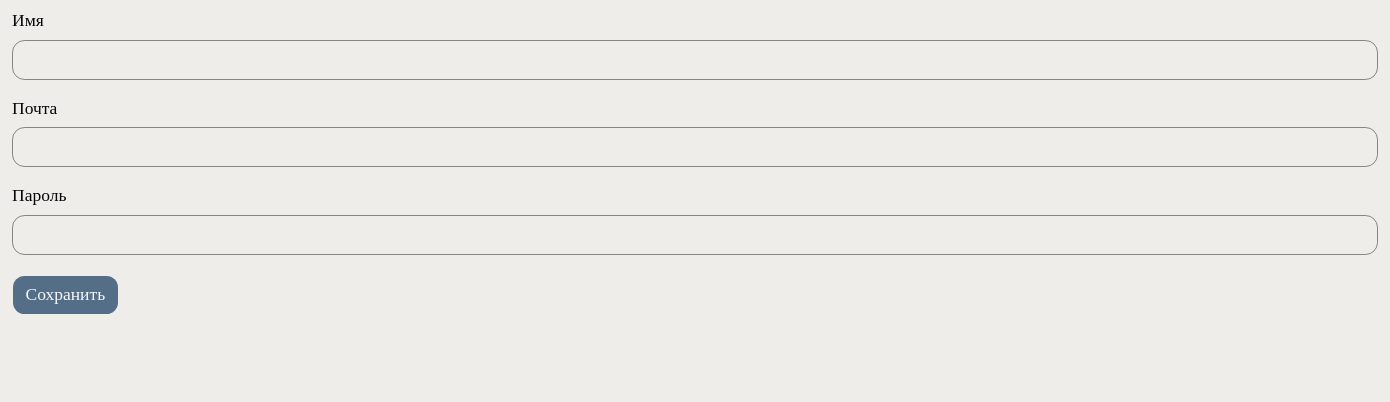
Test case: useFormAction › clearOnError: стирается поле, к которому относится отказ
Type "секрет" into the password field labelled "Пароль" at coordinates (695, 234), box top-left (12, 214), bottom-right (1378, 254)
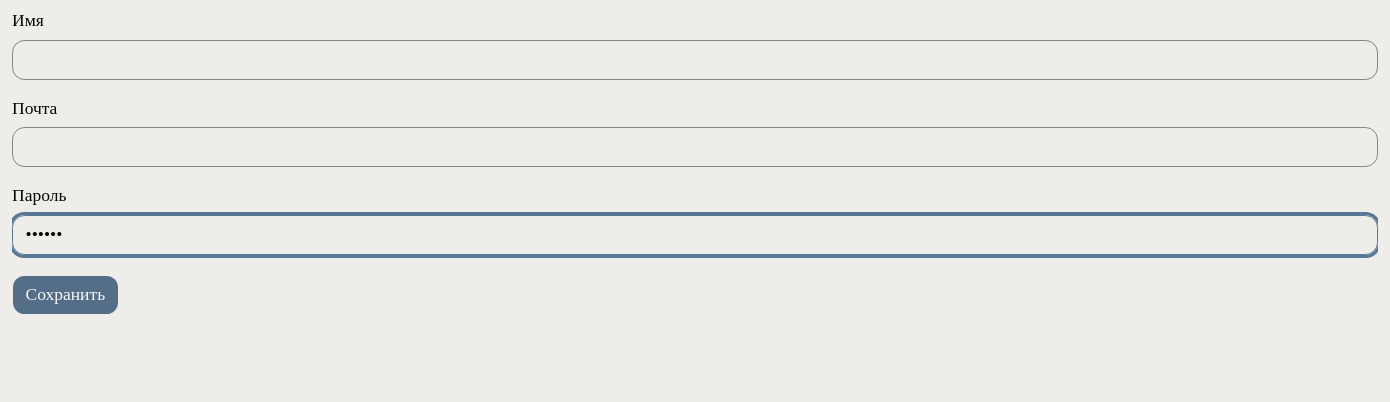
Click the button "Сохранить" at coordinates (65, 294), box top-left (12, 274), bottom-right (119, 314)
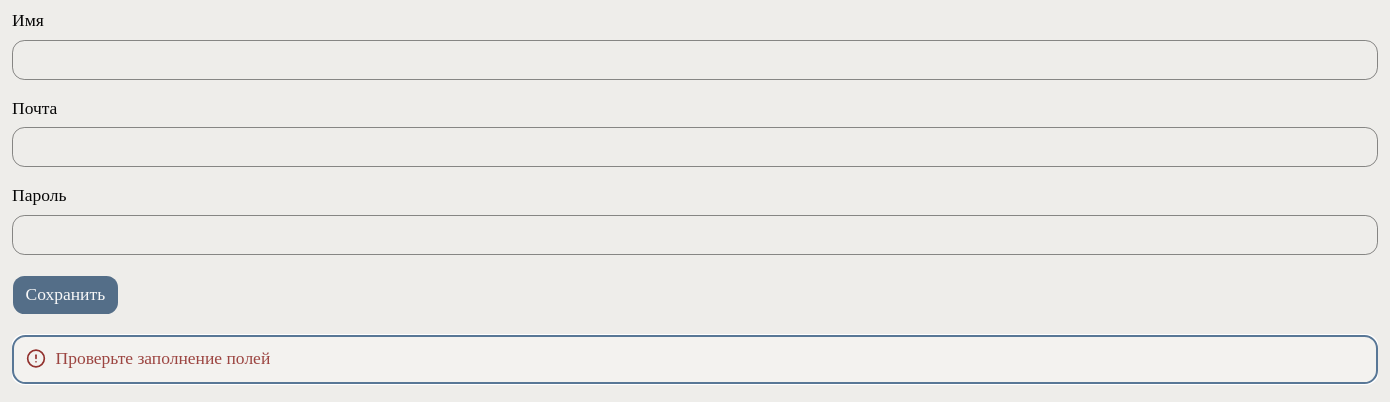
expect the text "Проверьте заполнение полей" is shown: met, box top-left (56, 348), bottom-right (270, 368)
expect the password field labelled "Пароль" is empty: met, box top-left (12, 214), bottom-right (1378, 254)
